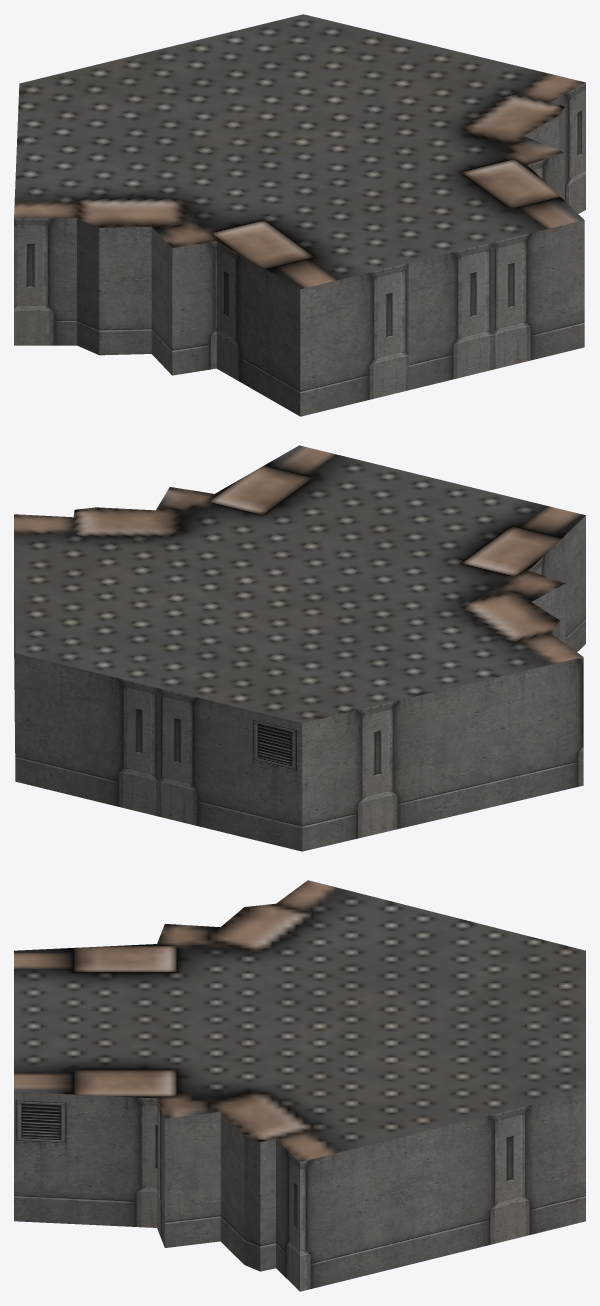
The model's file is building_hard_a_43.glb.
The picture shows the model from 3 angles, top to bottom: view 1: azimuth 30°, elevation 25°; view 2: azimuth 150°, elevation 25°; view 3: azimuth 270°, elevation 25°; orthographic projection.
Parts seen in each view (by area): view 1: buildings/saxarba/building_hard/building_hard_a_43; view 2: buildings/saxarba/building_hard/building_hard_a_43; view 3: buildings/saxarba/building_hard/building_hard_a_43.
Part boxes in pixels (left/top/right/bottom): buildings/saxarba/building_hard/building_hard_a_43: left=14, top=14, right=585, bottom=416; buildings/saxarba/building_hard/building_hard_a_43: left=14, top=445, right=585, bottom=851; buildings/saxarba/building_hard/building_hard_a_43: left=14, top=880, right=585, bottom=1291.
Bounding box in the file's own units: 84 × 18 × 72.
